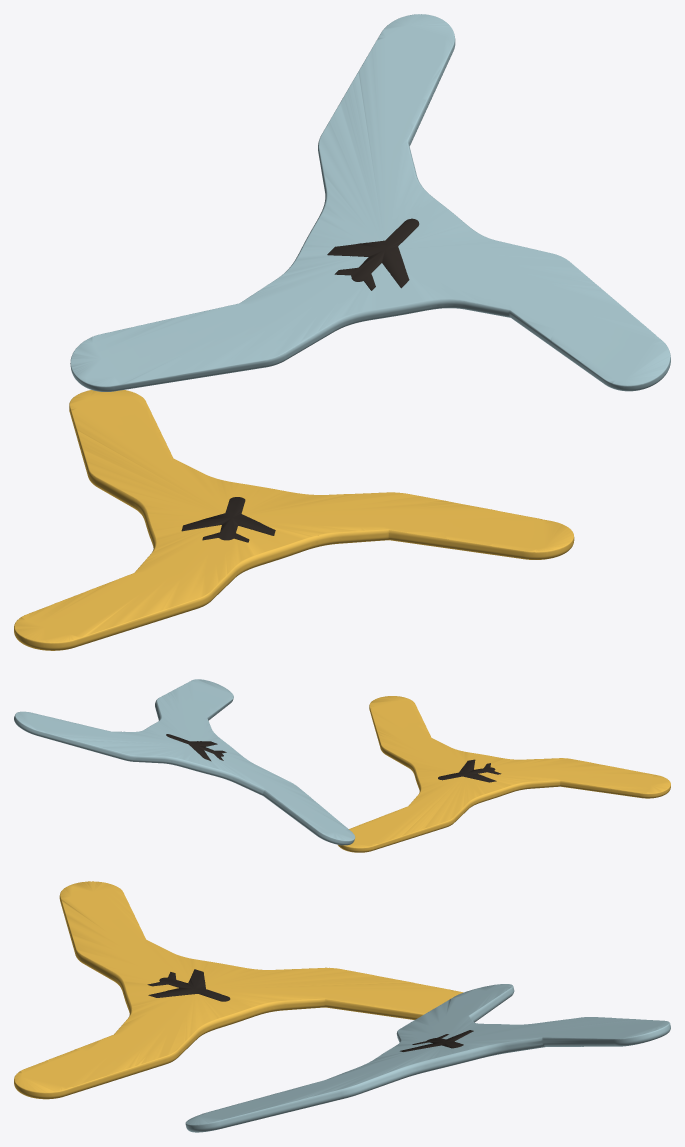
File: airplane-mode.glb
The picture shows the model from 3 angles, top to bottom: view 1: azimuth 30°, elevation 25°; view 2: azimuth 150°, elevation 25°; view 3: azimuth 270°, elevation 25°; orthographic projection. The views are drawn at different scales.
Visible parts, largest first — view 1: boom2-body, boom-body, boom-plane; view 2: boom-body, boom2-body, boom-plane; view 3: boom-body, boom2-body, boom-plane.
Part boxes in pixels (<box>): boom2-body: <box>70,14,670,391</box>; boom-body: <box>14,390,574,650</box>; boom-plane: <box>181,218,419,542</box>; boom-body: <box>338,696,670,852</box>; boom2-body: <box>14,679,355,845</box>; boom-plane: <box>166,734,501,782</box>; boom-body: <box>14,881,463,1099</box>; boom2-body: <box>185,984,670,1132</box>; boom-plane: <box>147,969,473,1051</box>.
Size of the model in its own units: 0.2822 by 0.0699 by 0.2546.
